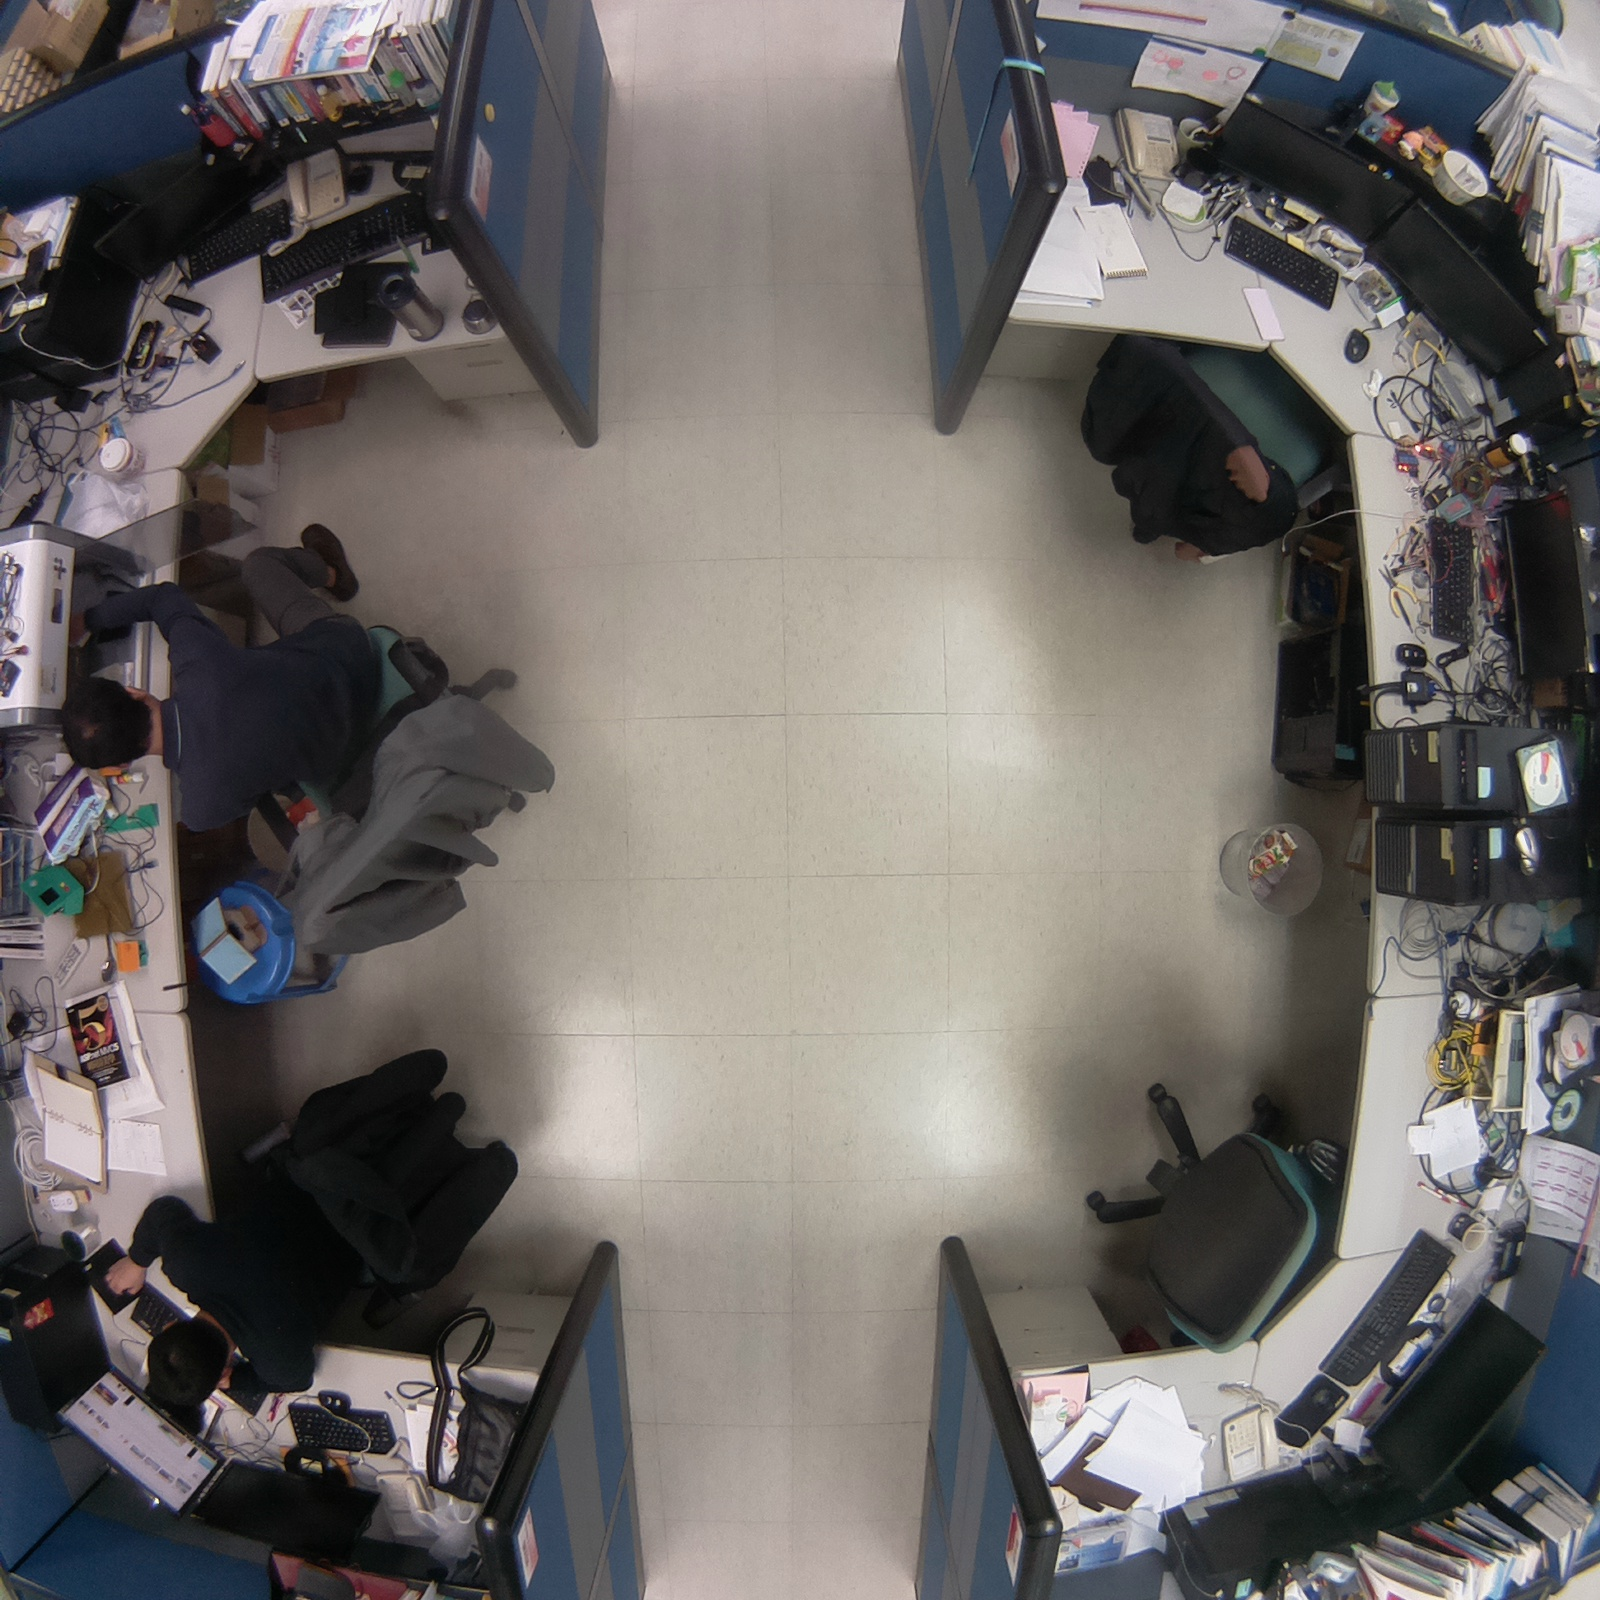chair: (1073, 1073, 1347, 1363), (1060, 311, 1353, 573)
head: (46, 672, 166, 774), (142, 1310, 236, 1417)
sitting: (41, 496, 565, 973), (96, 1042, 535, 1420)
